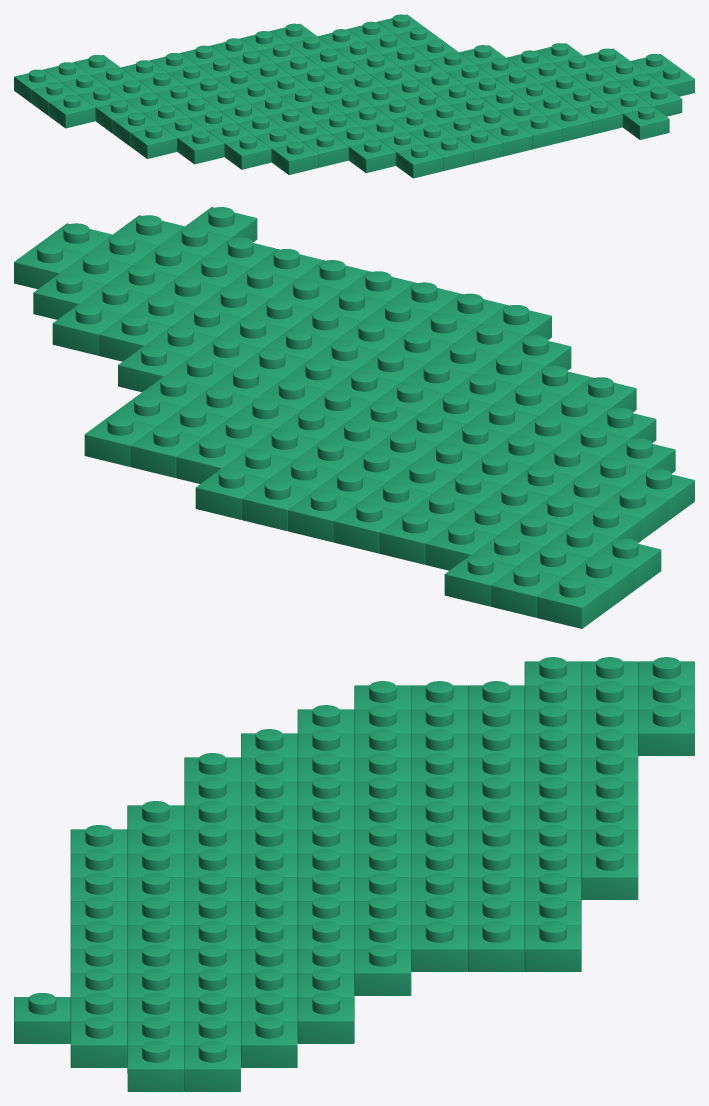
The model's file is NewGuinea.fbx.
3 renders of one model, top to bottom at view 1: azimuth 30°, elevation 25°; view 2: azimuth 150°, elevation 25°; view 3: azimuth 270°, elevation 25°, orthographic. The views are drawn at different scales.
Parts seen in each view (by area): view 1: Cylinder_99; view 2: Cylinder_99; view 3: Cylinder_99.
Boxes of the visible parts, bbox=[...] form: Cylinder_99: bbox=[14, 14, 694, 178]; Cylinder_99: bbox=[14, 207, 694, 628]; Cylinder_99: bbox=[14, 657, 694, 1091].
Size of the model in its own units: 1700 by 65.03 by 1200.
